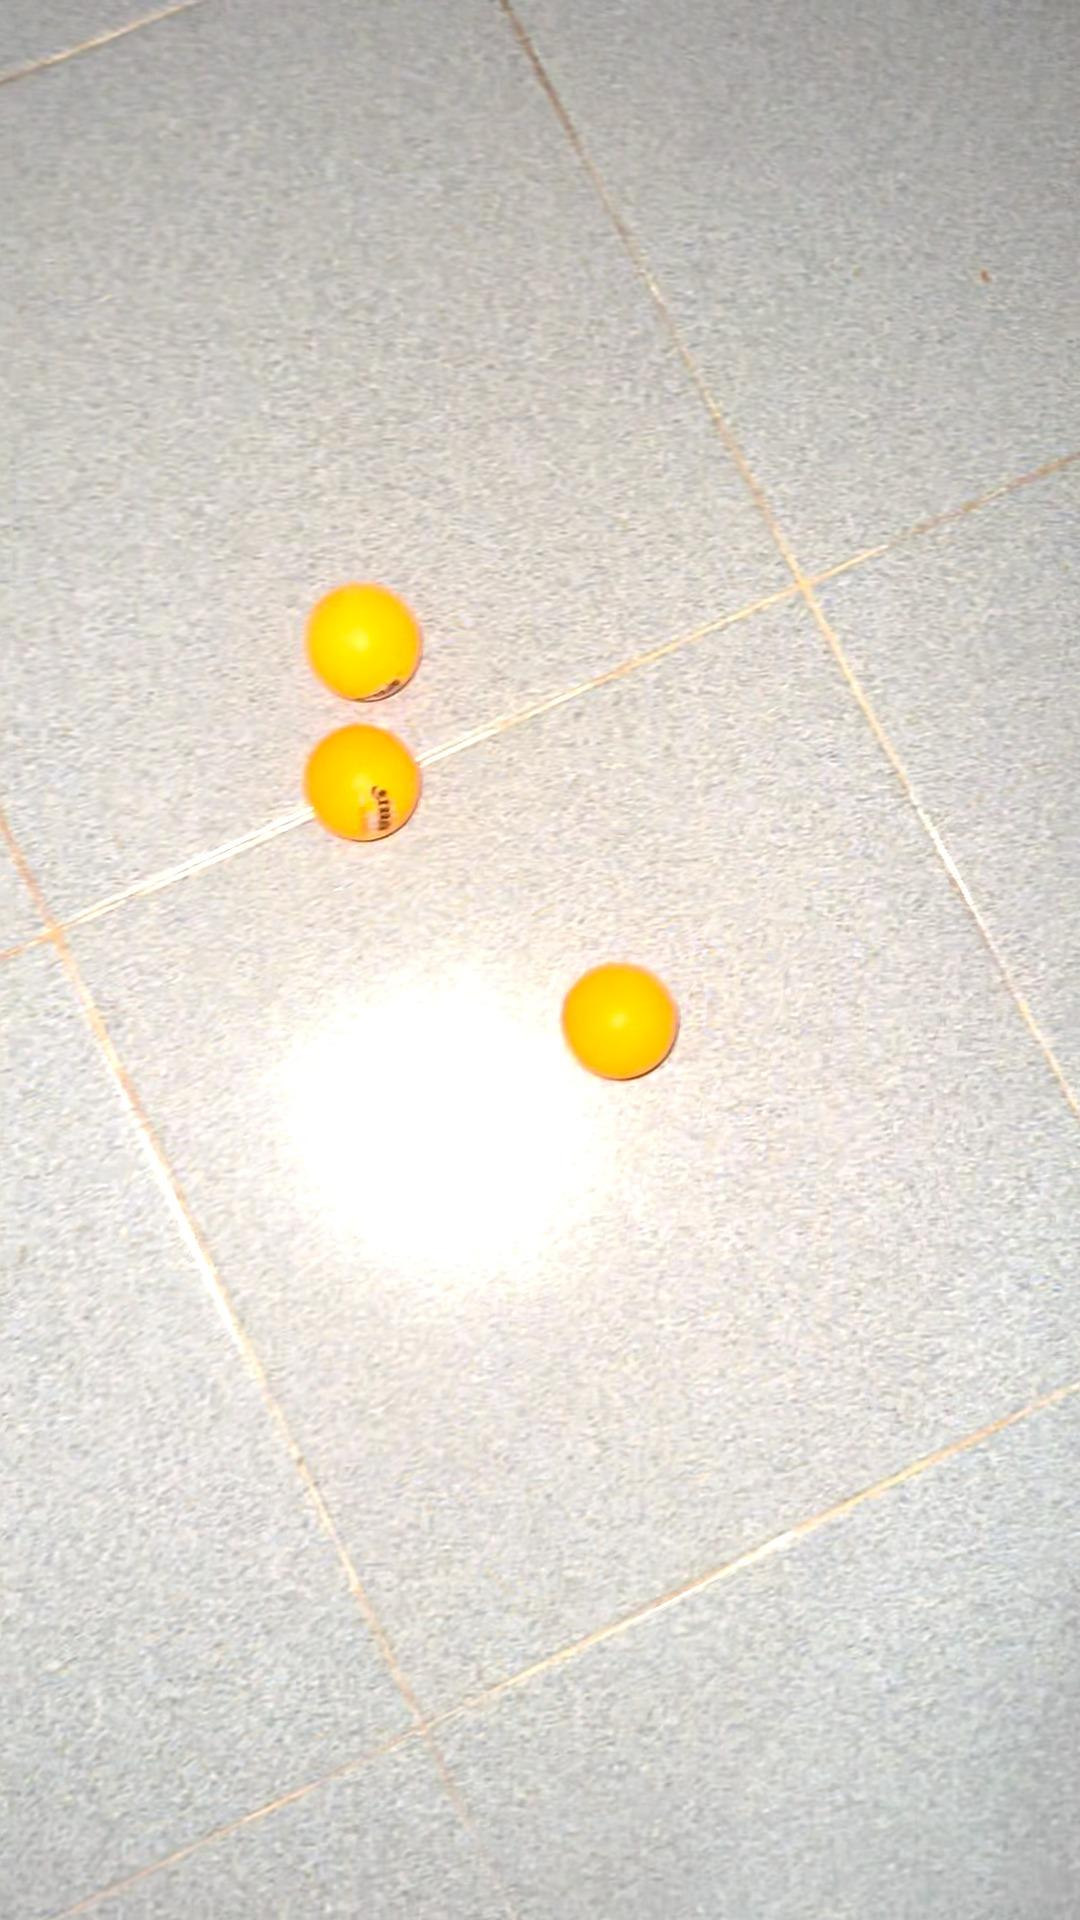oball: (305, 575, 429, 708), (562, 951, 686, 1081), (301, 724, 426, 847)
